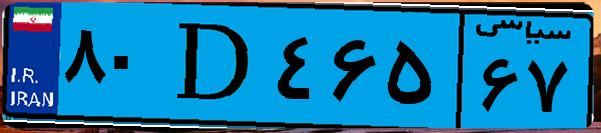0: (110, 28, 158, 98)
4: (270, 28, 330, 110)
5: (385, 28, 445, 110)
6: (330, 28, 385, 110), (475, 38, 525, 113)
7: (525, 38, 570, 115)
8: (57, 26, 110, 100)
D: (158, 12, 270, 120)
